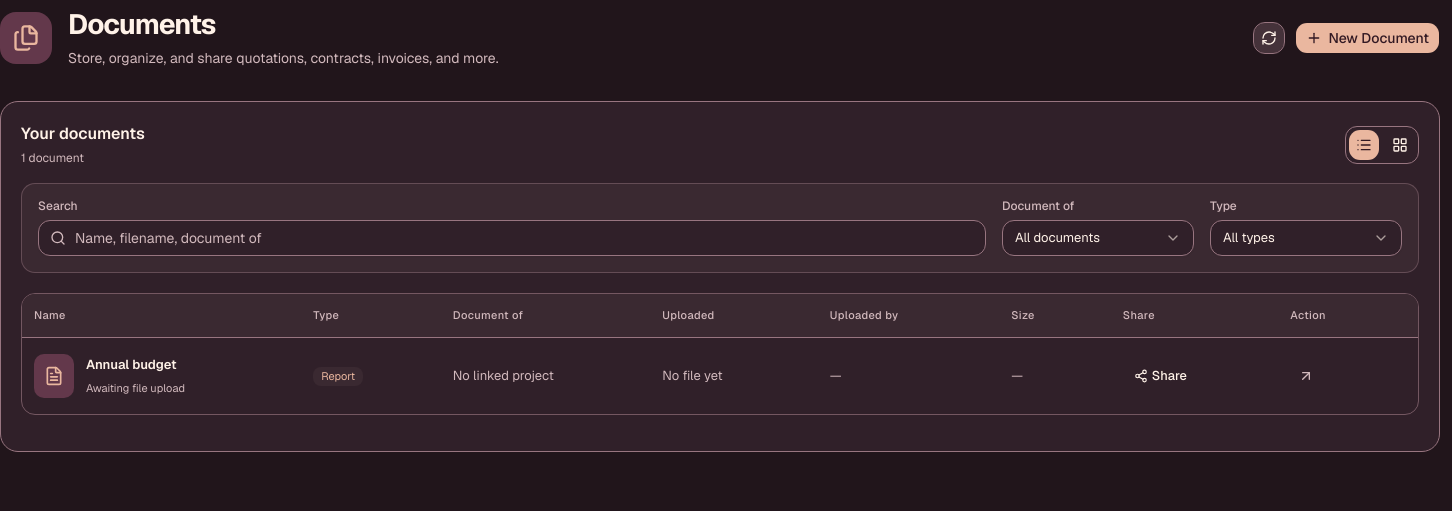
Scenario: DocumentsManager library controls › clears search and document type and requests the first unfiltered page
expect the text "1 document" is shown: met, box [21,150,84,166]
Type "budget" into the search field labelled "Search" at (512, 238), box [38,220,986,256]
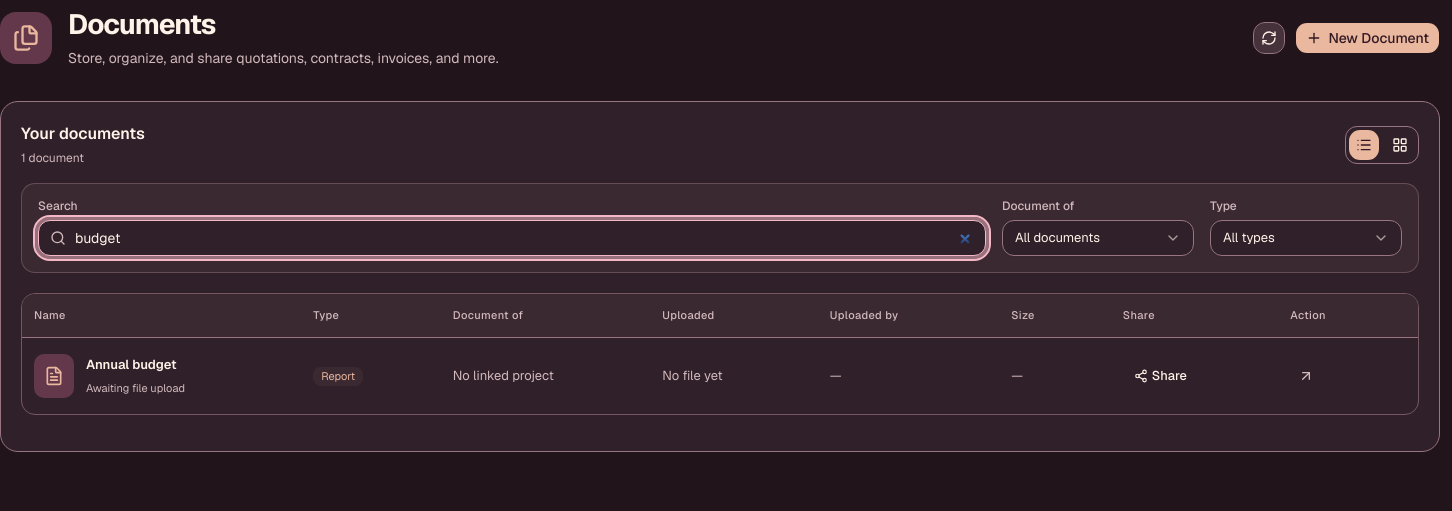
Click the dropdown named "Filter by document type" at (1306, 238), box [1210,220,1402,256]
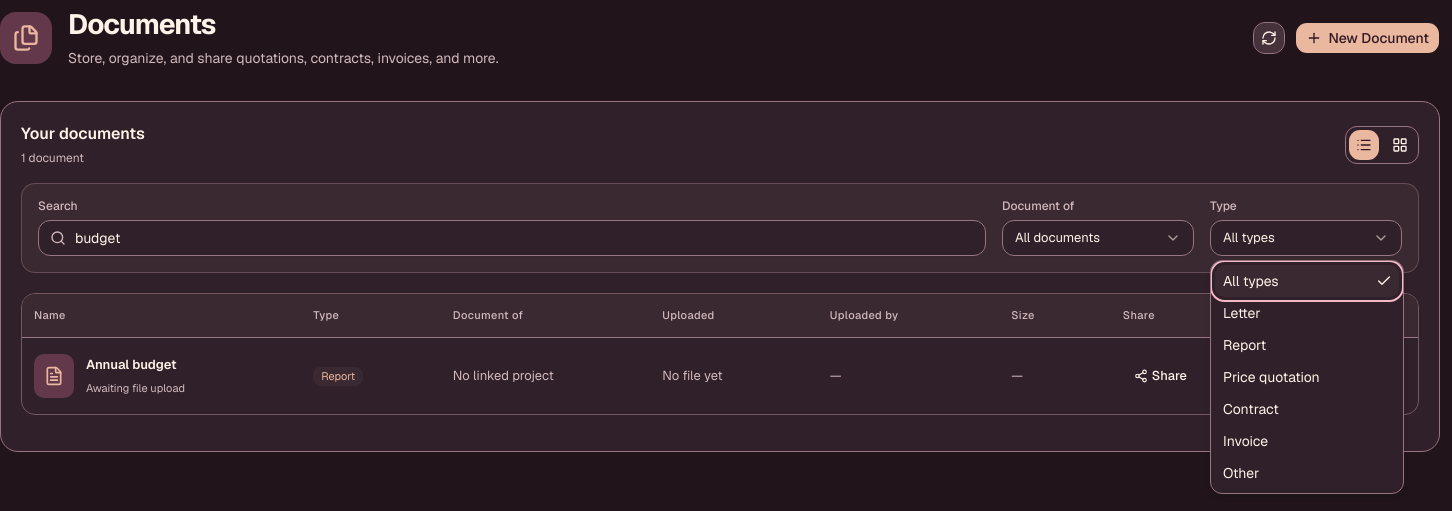
Click the option "Report" at (1245, 345), box [1223,336,1266,354]
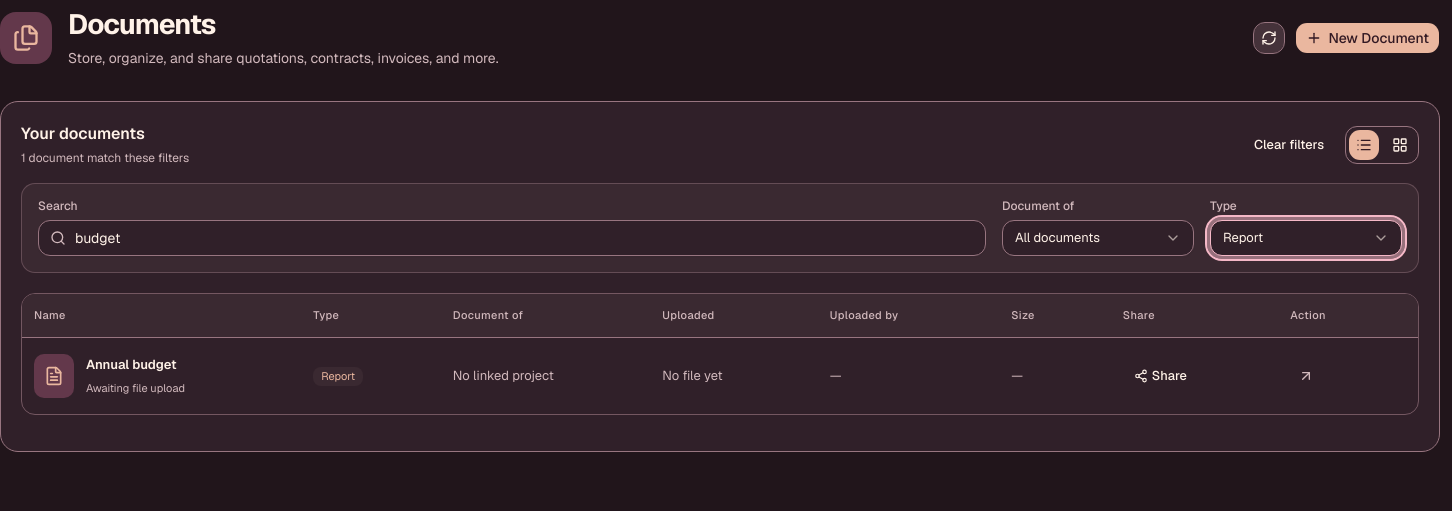
Click the button "Clear filters" at (1289, 144), box [1243,130,1335,158]
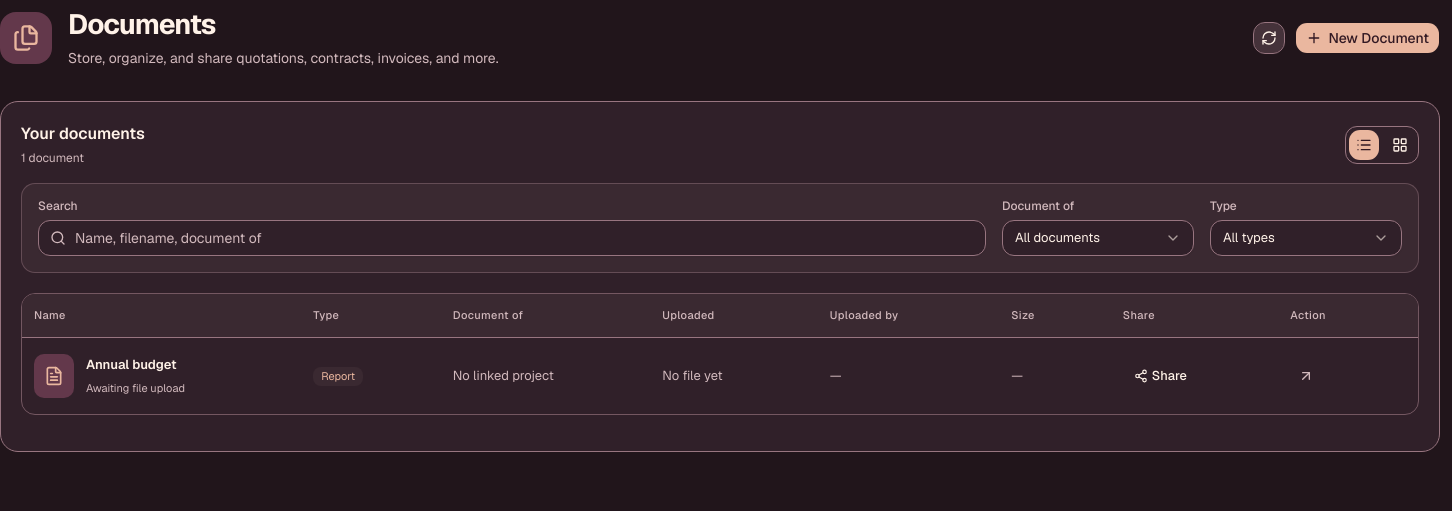
expect the search field labelled "Search" is empty: met, box [38,220,986,256]
expect the button "Clear filters" is gone: met
